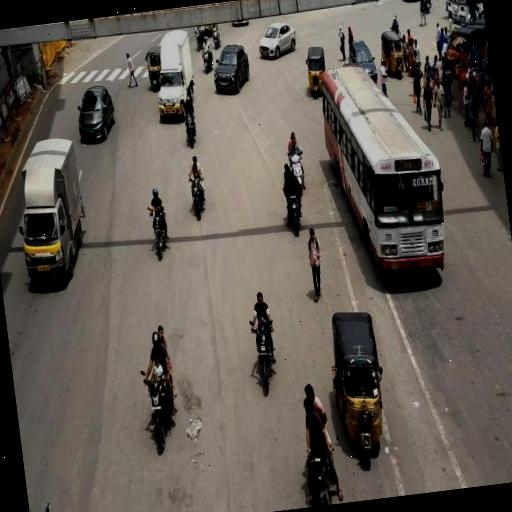helmet: (134, 174, 190, 272), (139, 319, 183, 427), (179, 150, 220, 222)
no helmet: (240, 276, 292, 402)
